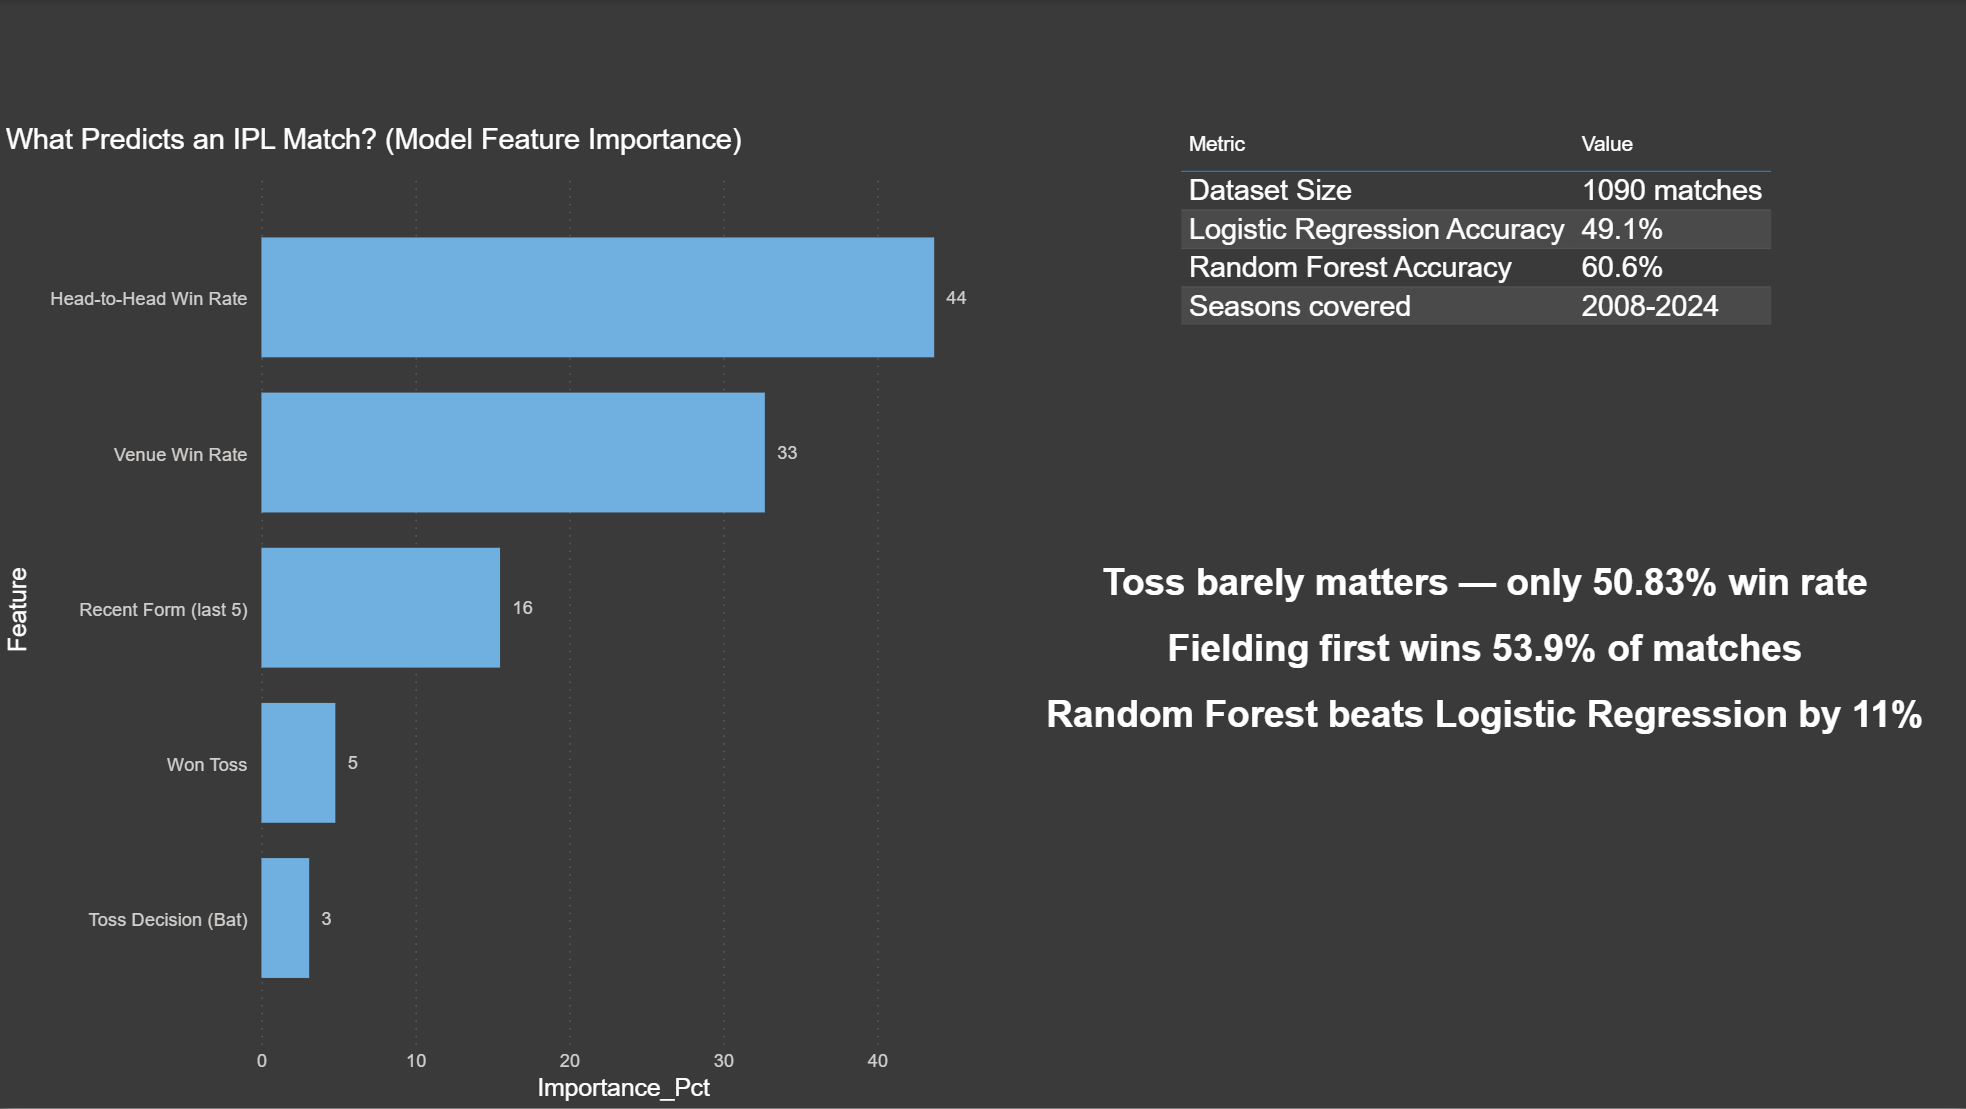

Layout of this report page (visuals, bound fields, positions):
{"tool":"powerbi","page":{"name":"Model Insights","canvas":[1280,720],"ordinal":3},"visuals":[{"type":"clusteredBarChart","title":"What Predicts an IPL Match? (Model Feature Importance)","fields":{"Category":["pbi_feature_importance.Feature"],"Y":["Sum(pbi_feature_importance.Importance_Pct)"]},"box":[0,80.5,653,640],"z":0},{"type":"tableEx","fields":{"Values":["Table.Metric","Table.Value"]},"box":[762,80.5,407.6,171.4],"z":1},{"type":"textbox","box":[650.4,359.6,629.6,161],"z":2}]}

Visuals, with their boxes in screenshot pixels (x1, y1, x2, y2), scaled from the page's 1280x720 canvas onto the 1966x1109 screenshot:
"What Predicts an IPL Match? (Model Feature Importance)" clusteredBarChart: BBox(0, 124, 1003, 1108)
tableEx - Table.Metric x Table.Value: BBox(1170, 124, 1796, 388)
textbox: BBox(999, 554, 1965, 802)
